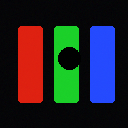2 circle: (58, 47, 80, 69)
